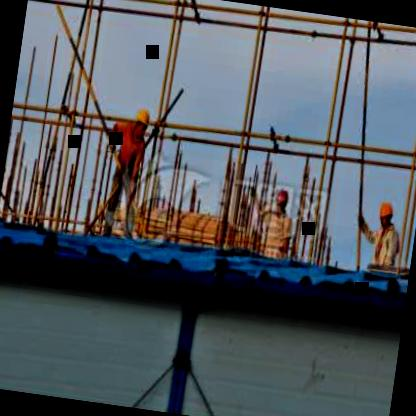helmet: (124, 106, 158, 147), (270, 184, 293, 222), (373, 198, 395, 233)
